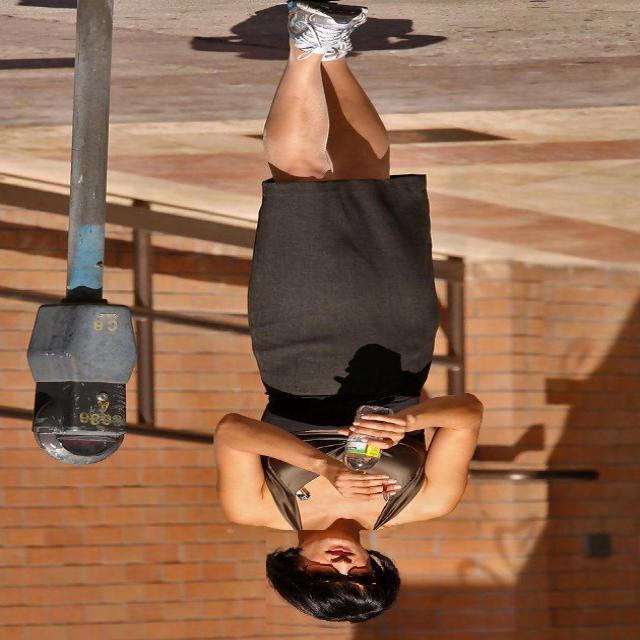cigarette: (370, 480, 397, 514)
